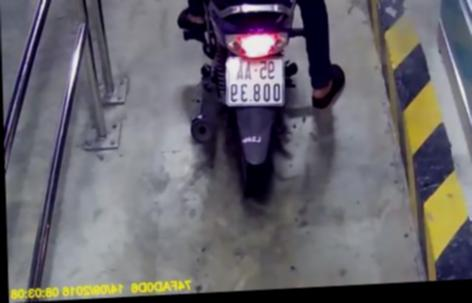License_Plate: (218, 53, 291, 113)
